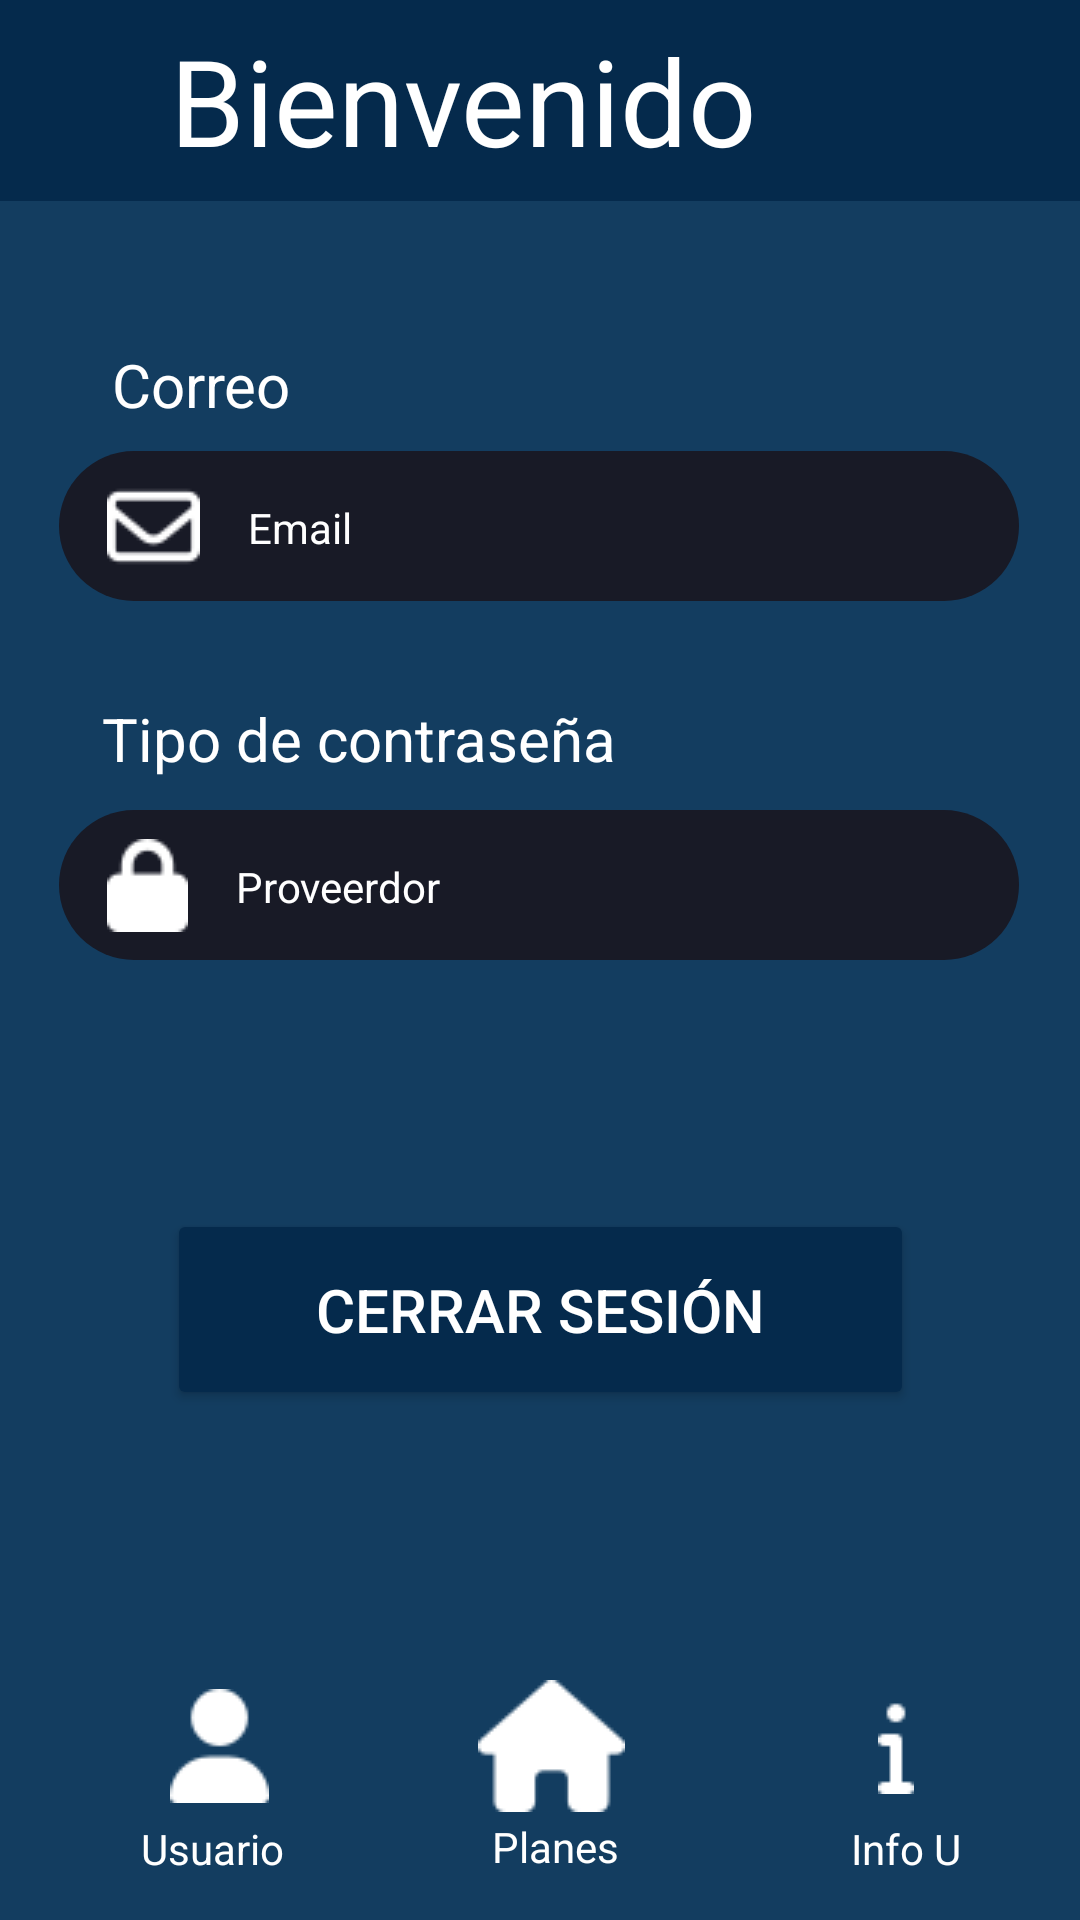

Icon click points for this 1080px×1920px phone screenshot, format [x,y]:
casarelleno: [551,1746]
